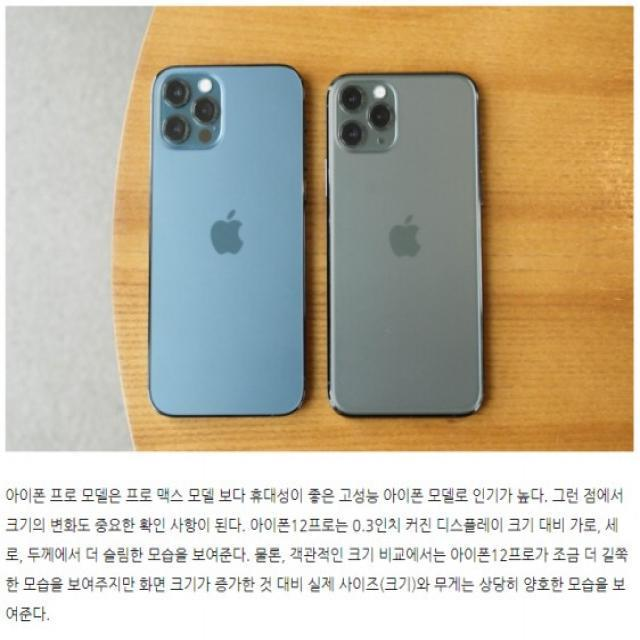phone: (150, 62, 306, 418), (327, 72, 485, 417)
